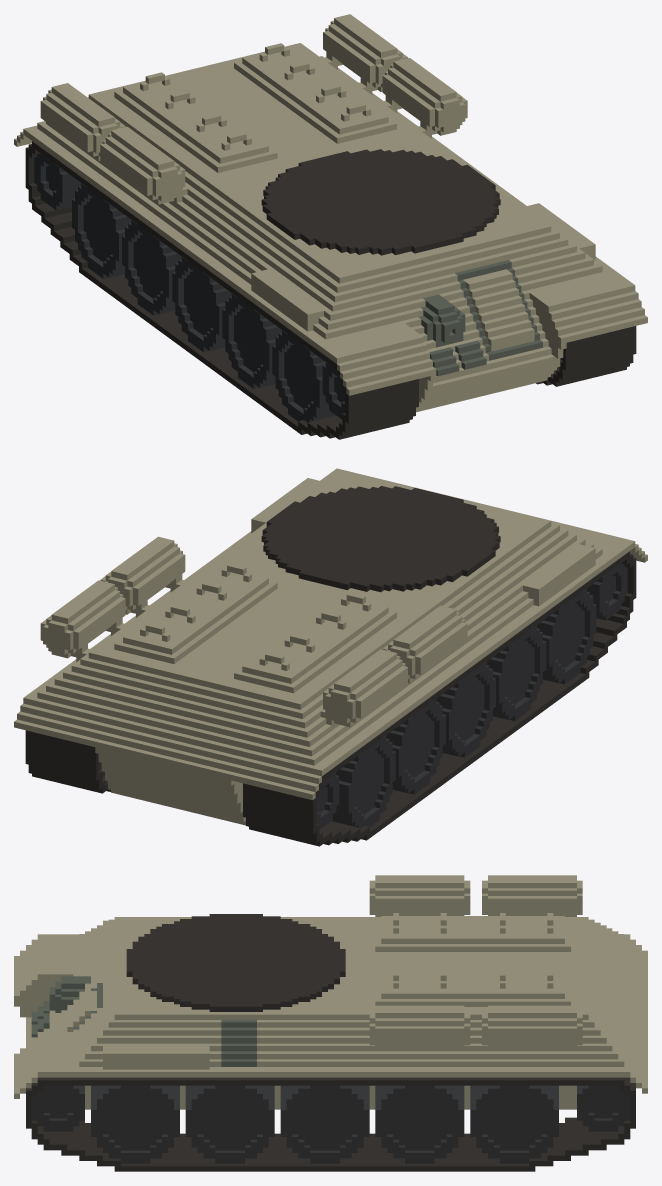
Rendered from Boss-3.obj.
3 views of the same model, one above another, from view 1: azimuth 30°, elevation 25°; view 2: azimuth 150°, elevation 25°; view 3: azimuth 270°, elevation 25° (orthographic). The views are drawn at different scales.
Bounding box in the file's own units: 5.9 × 3 × 10.7.
Materials: 1 (1 with a texture image).
